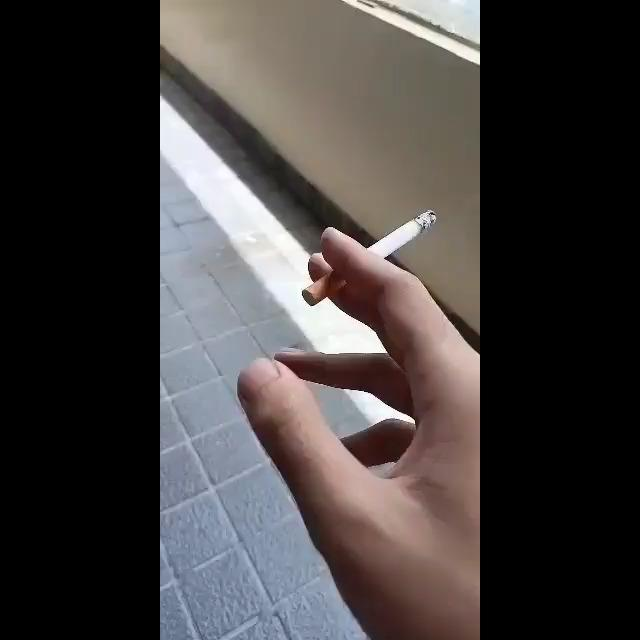rokok: (282, 195, 444, 315)
